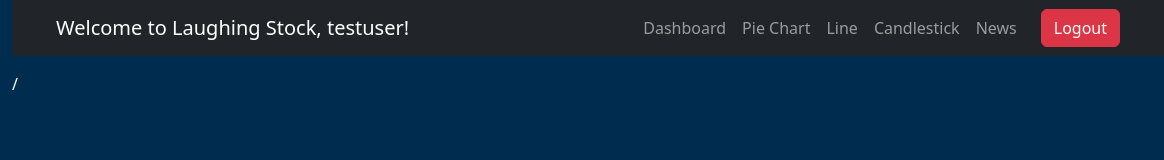
it: navigation tests › navigates to the line page when line link is clicked
Click the link "Line" at (842, 28), box [826,17,858,39]
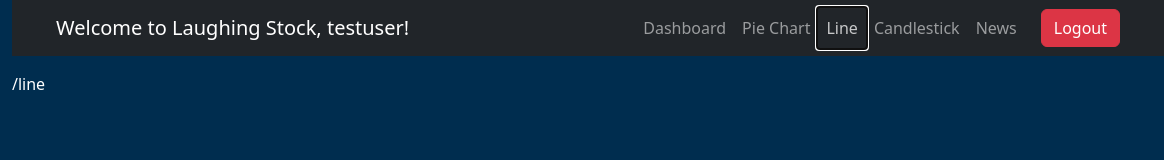
Now the text with test id "location-display" reads "/line", box [12,73,45,95]
